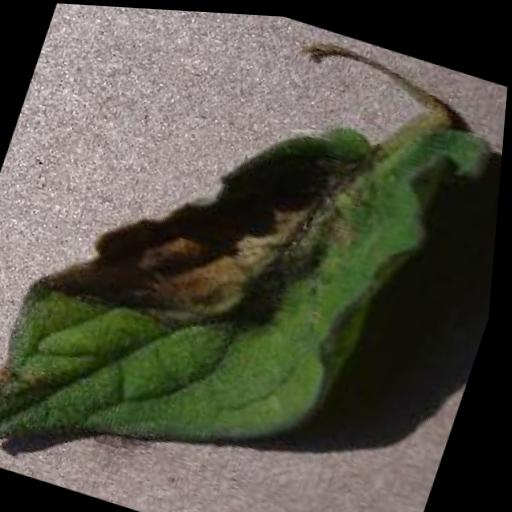Late Blight: (0, 9, 502, 512)
